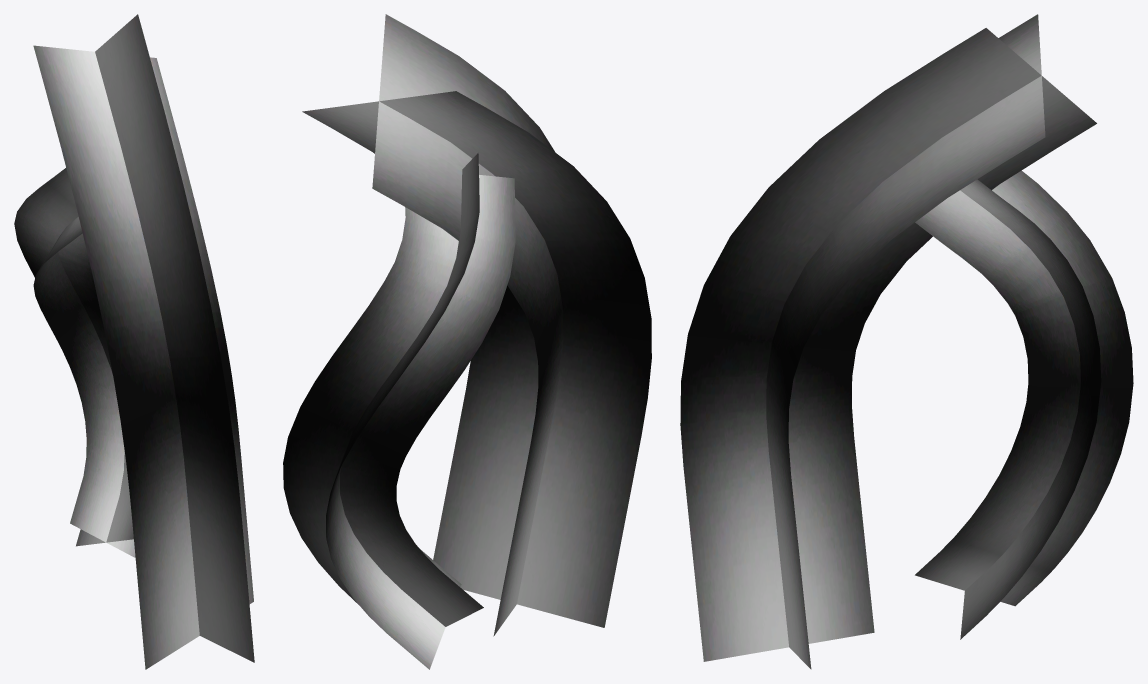
The model's file is vfx_kurp_0377.dae.
The picture shows the model from 3 angles, left to right: view 1: azimuth 30°, elevation 25°; view 2: azimuth 150°, elevation 25°; view 3: azimuth 270°, elevation 25°; orthographic projection. The views are drawn at different scales.
Visible parts, largest first — view 1: vfx_kurp_0377; view 2: vfx_kurp_0377; view 3: vfx_kurp_0377.
Boxes of the visible parts, <box> form: vfx_kurp_0377: <box>14,14,254,669</box>; vfx_kurp_0377: <box>283,14,651,669</box>; vfx_kurp_0377: <box>680,14,1133,669</box>.
Bounding box in the file's own units: 5.22 × 10.52 × 16.57.
1 material, 1 textured.
